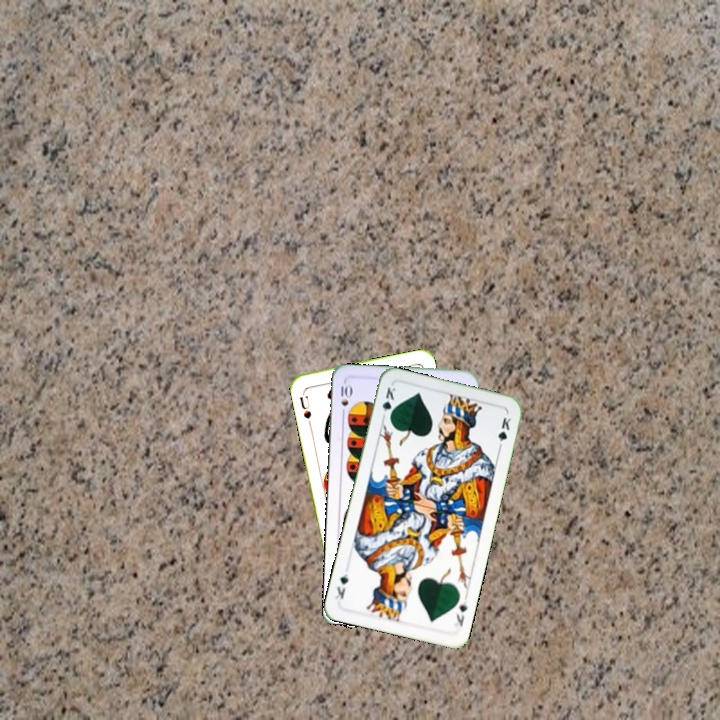GK: (378, 383, 398, 423), (450, 593, 470, 629)
S10: (337, 381, 354, 419)
SU: (296, 387, 314, 421)
